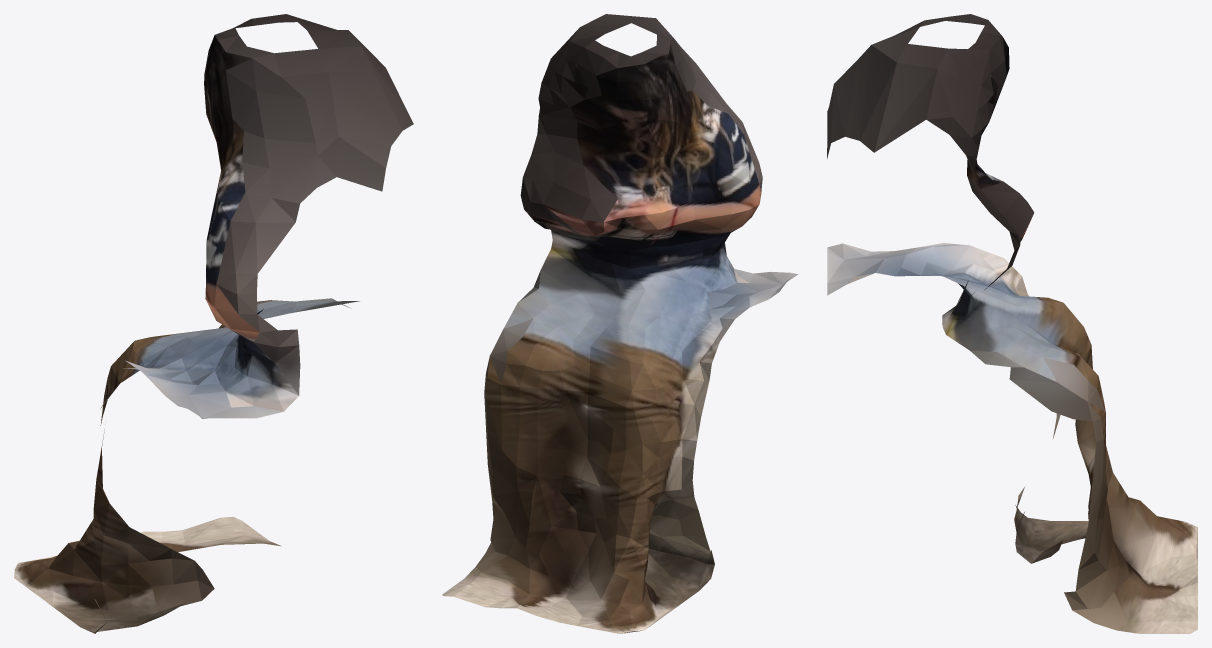
3 renders of one model, left to right at view 1: azimuth 30°, elevation 25°; view 2: azimuth 150°, elevation 25°; view 3: azimuth 270°, elevation 25°, orthographic. The views are drawn at different scales.
Bounding box in the file's own units: 0.5079 × 1.23 × 0.7443.
Materials: 1 (1 with a texture image).
